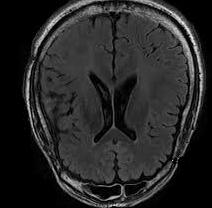Normal_Brain: (1, 1, 212, 208)
